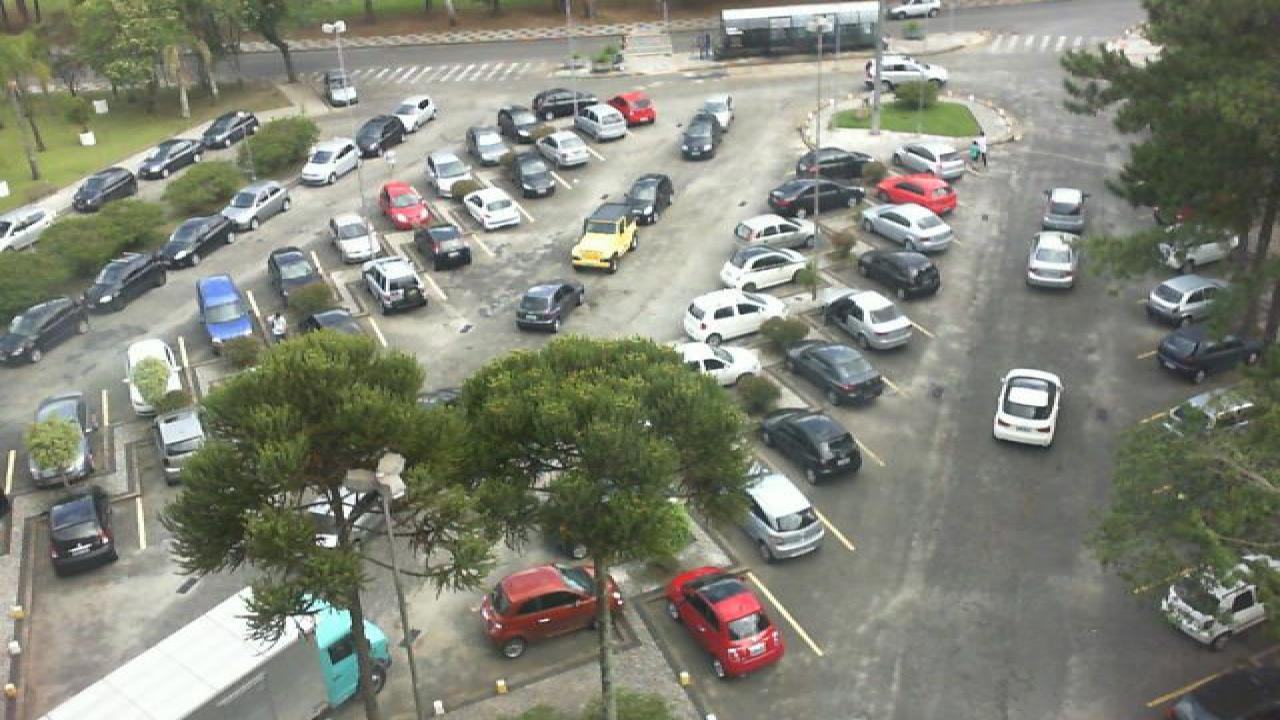Car: (476, 560, 626, 660), (662, 562, 786, 679), (726, 459, 830, 561), (1152, 564, 1268, 646), (752, 407, 864, 486), (1152, 317, 1258, 384), (782, 340, 886, 406), (988, 367, 1068, 449), (44, 492, 126, 572), (816, 288, 916, 350), (20, 391, 94, 470), (680, 288, 782, 345), (120, 334, 194, 412), (0, 296, 86, 363), (80, 250, 168, 312), (570, 200, 642, 272), (1144, 274, 1238, 329), (860, 201, 956, 253), (852, 250, 946, 299), (718, 245, 810, 295), (150, 405, 212, 478), (196, 274, 258, 346), (672, 339, 764, 387), (1150, 225, 1238, 272), (156, 217, 232, 270), (358, 255, 426, 313), (512, 280, 586, 333), (766, 178, 866, 217), (874, 172, 958, 215), (730, 214, 818, 254), (1022, 232, 1080, 290), (130, 133, 202, 179), (68, 166, 140, 212), (224, 180, 290, 230), (618, 172, 676, 226), (892, 144, 972, 181), (298, 137, 358, 186), (268, 248, 320, 303), (414, 220, 472, 269), (462, 188, 524, 232), (0, 206, 58, 253), (376, 181, 430, 231), (862, 54, 952, 83), (792, 146, 870, 179), (194, 112, 260, 150), (328, 213, 380, 261), (352, 114, 408, 158), (1040, 186, 1090, 232), (508, 154, 560, 198), (422, 150, 472, 195), (572, 102, 628, 142), (536, 130, 592, 167), (384, 94, 438, 130), (678, 116, 720, 161), (604, 91, 658, 126), (466, 126, 512, 166), (320, 67, 360, 107), (532, 88, 586, 117), (498, 106, 540, 143), (694, 94, 734, 132), (886, 0, 940, 19)
